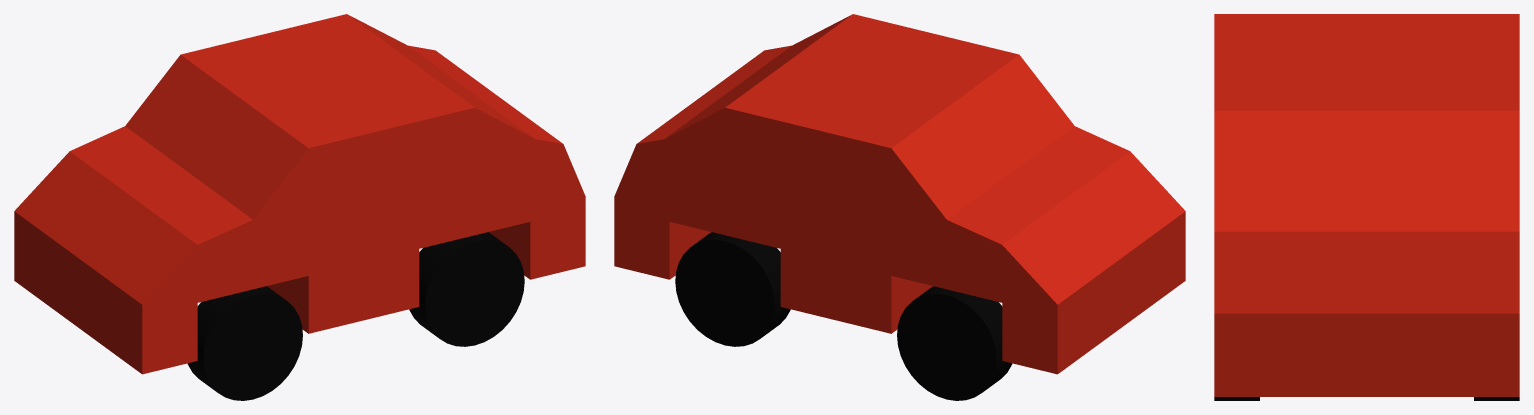
File: follow_platform.dae
The picture shows the model from 3 angles, left to right: view 1: azimuth 30°, elevation 25°; view 2: azimuth 150°, elevation 25°; view 3: azimuth 270°, elevation 25°; orthographic projection. The views are drawn at different scales.
Visible parts, largest first — view 1: Cube, Cylinder; view 2: Cube, Cylinder; view 3: Cube, Cylinder.
Boxes of the visible parts, bbox=[...] form: Cube: bbox=[14, 14, 585, 374]; Cylinder: bbox=[187, 232, 524, 400]; Cube: bbox=[614, 14, 1185, 374]; Cylinder: bbox=[675, 232, 1012, 400]; Cube: bbox=[1214, 14, 1519, 396]; Cylinder: bbox=[1214, 397, 1519, 400].
Bounding box in the file's own units: 4 × 2 × 2.05.
